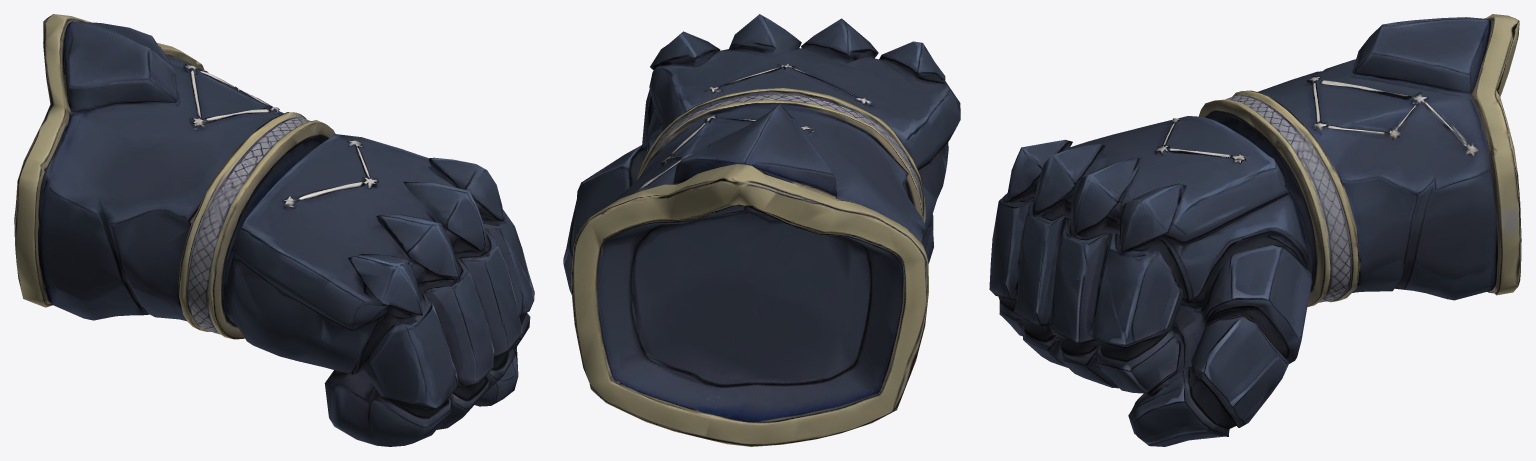
Rendered from boss_fist.glb.
3 renders of one model, left to right at view 1: azimuth 30°, elevation 25°; view 2: azimuth 150°, elevation 25°; view 3: azimuth 270°, elevation 25°, orthographic. The views are drawn at different scales.
Parts seen in each view (by area): view 1: tripo_node_8a59e8b5-6398-4479-8518-0a3bc8c04a76; view 2: tripo_node_8a59e8b5-6398-4479-8518-0a3bc8c04a76; view 3: tripo_node_8a59e8b5-6398-4479-8518-0a3bc8c04a76.
Part boxes in pixels (x1=…): tripo_node_8a59e8b5-6398-4479-8518-0a3bc8c04a76: x1=14, y1=14, x2=534, y2=446; tripo_node_8a59e8b5-6398-4479-8518-0a3bc8c04a76: x1=563, y1=14, x2=960, y2=446; tripo_node_8a59e8b5-6398-4479-8518-0a3bc8c04a76: x1=989, y1=14, x2=1521, y2=446.
Bounding box in the file's own units: 0.8473 × 0.6619 × 1.
1 material, 1 textured.
